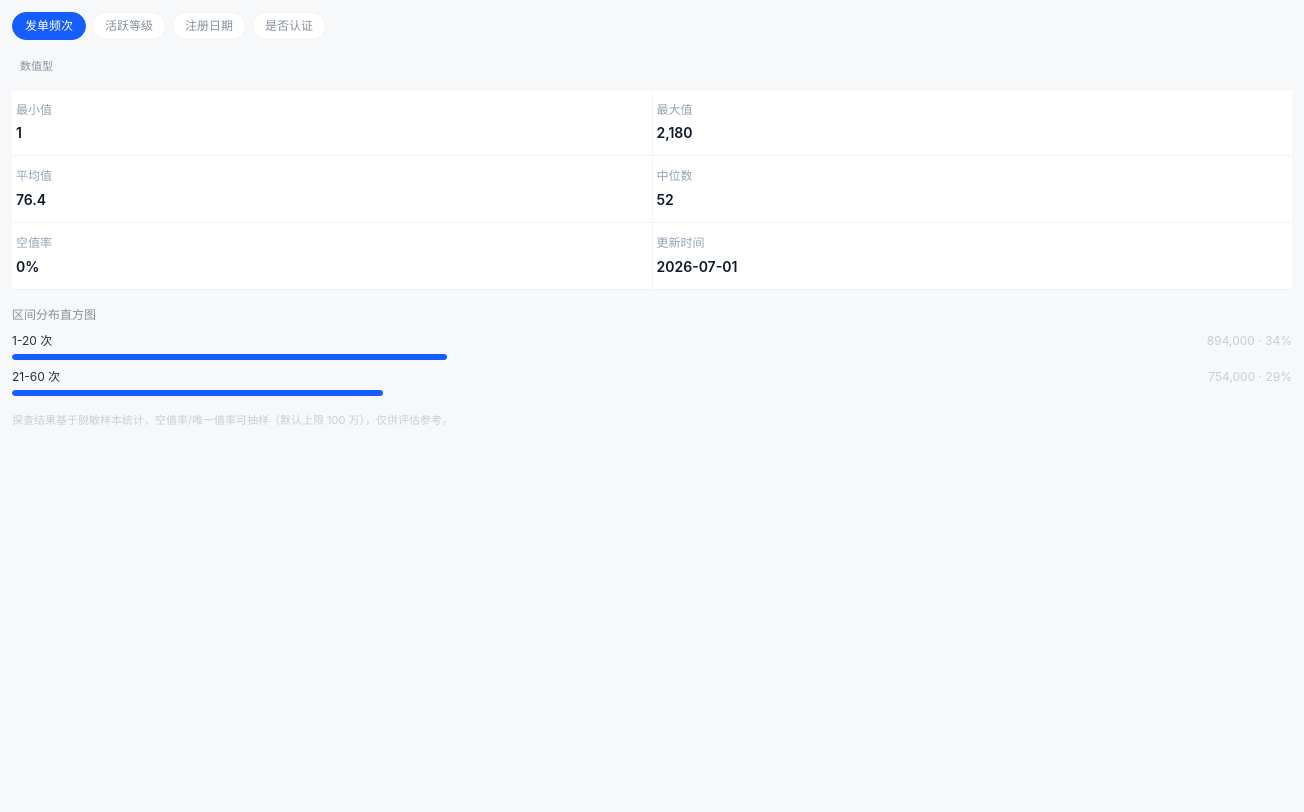
FieldProfilingPanel › switches datetime grain to year and quarter label formats
Click the tab "注册日期": (209, 26) [172,12,246,40]
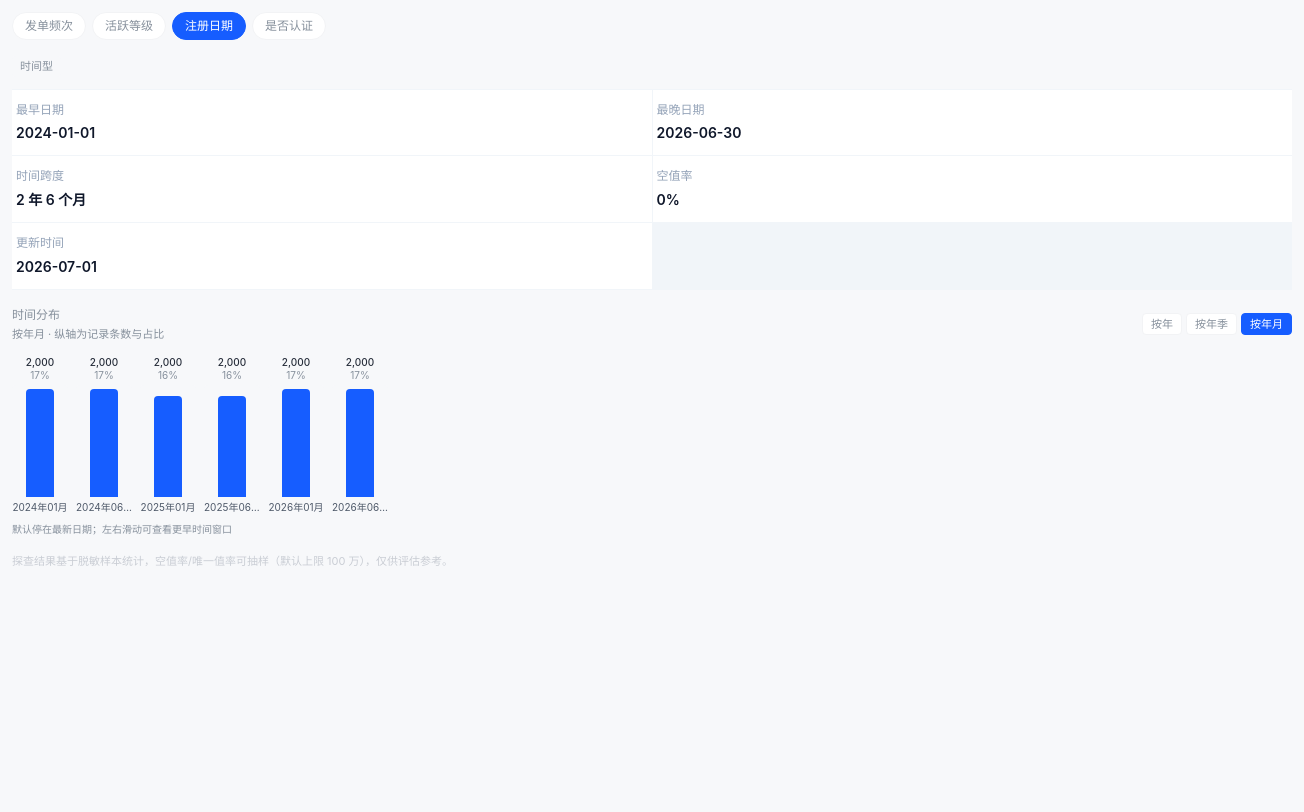
Click the tab "按年": (1162, 324) [1142,313,1182,335]
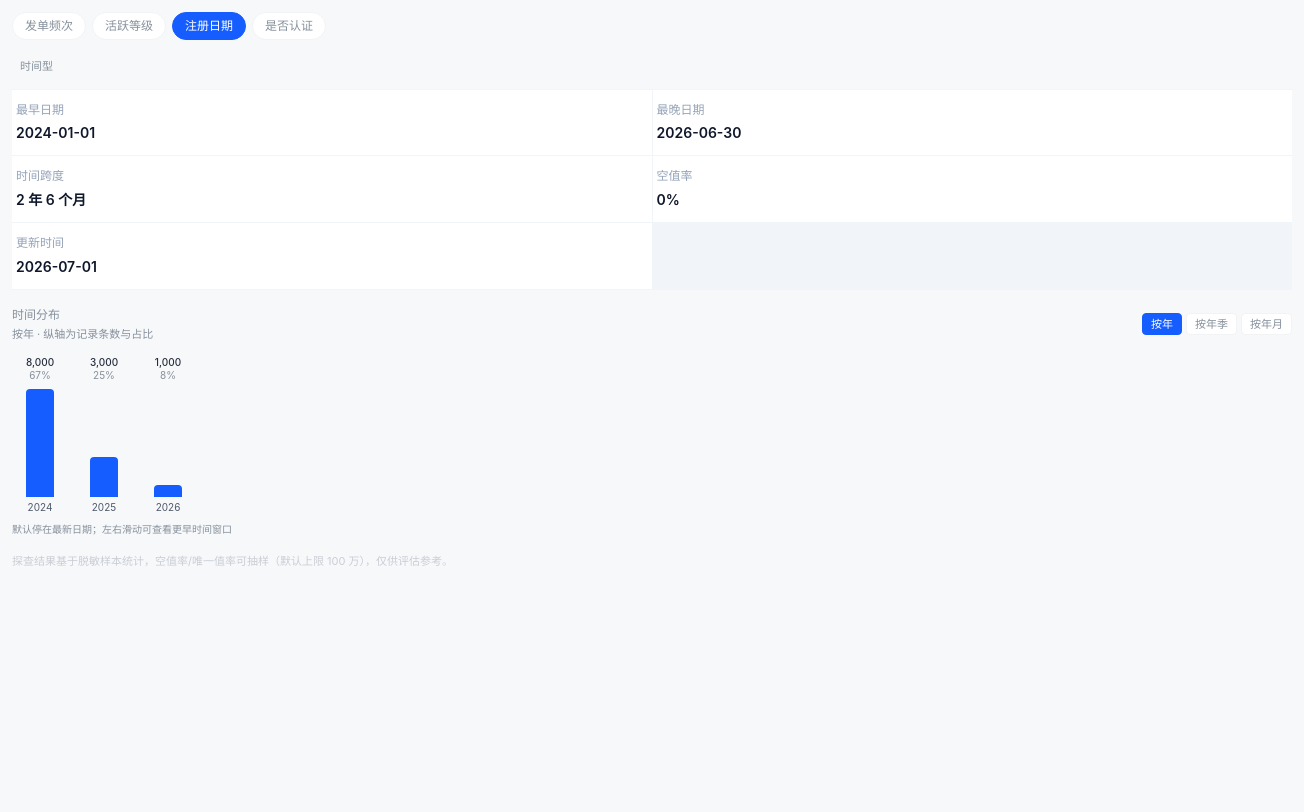
Expected: the text "2024" is shown, [16,124,95,141]
Expected: the text "8,000" is shown, [26,356,54,369]
Expected: the text "2024年01月" is gone
Click the tab "按年季": (1212, 324) [1186,313,1237,335]
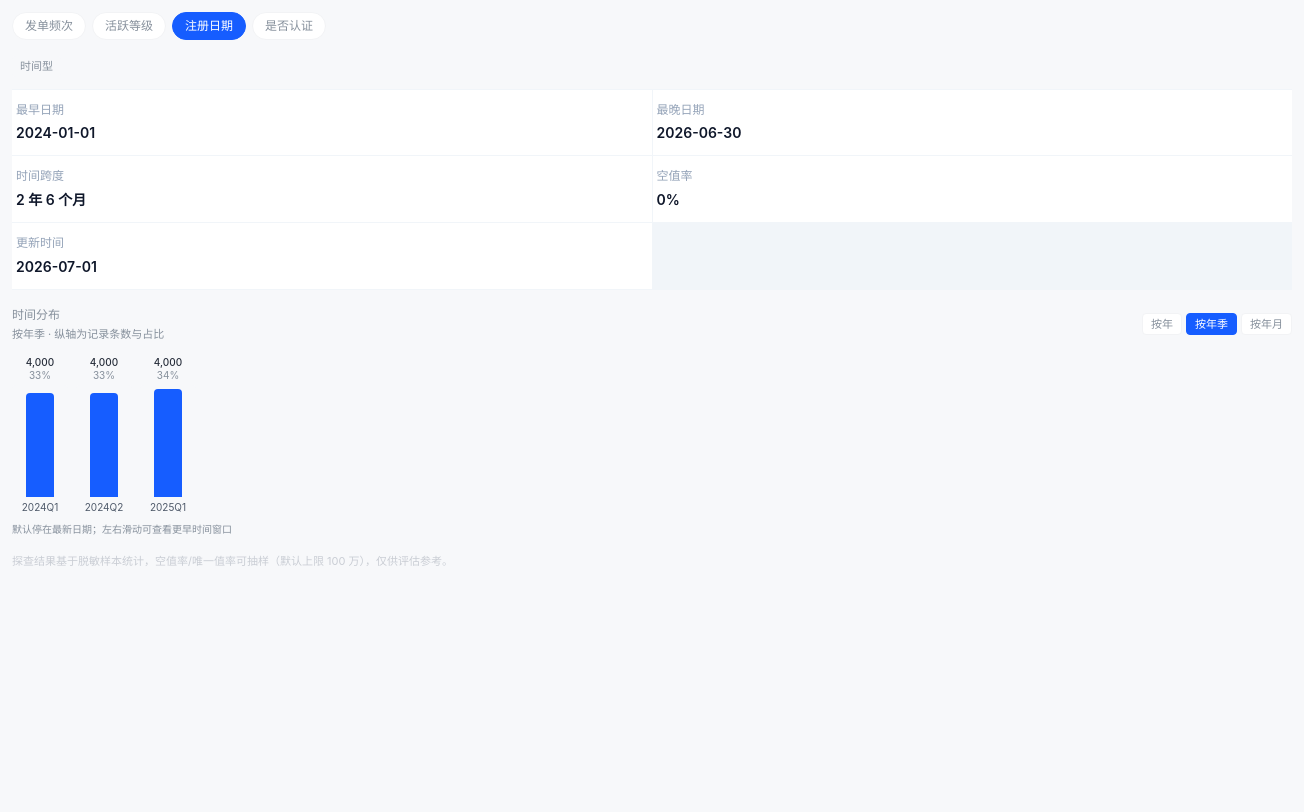
Expected: the text "2024Q1" is shown, [22,501,58,513]
